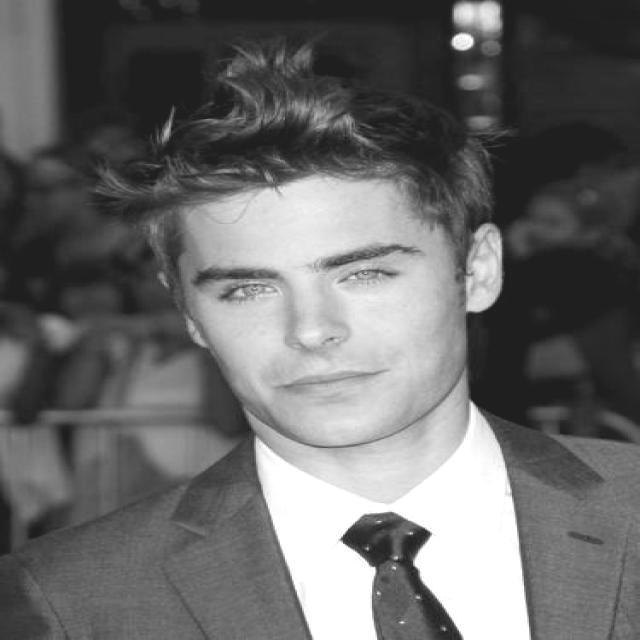real: (180, 196, 464, 440)
